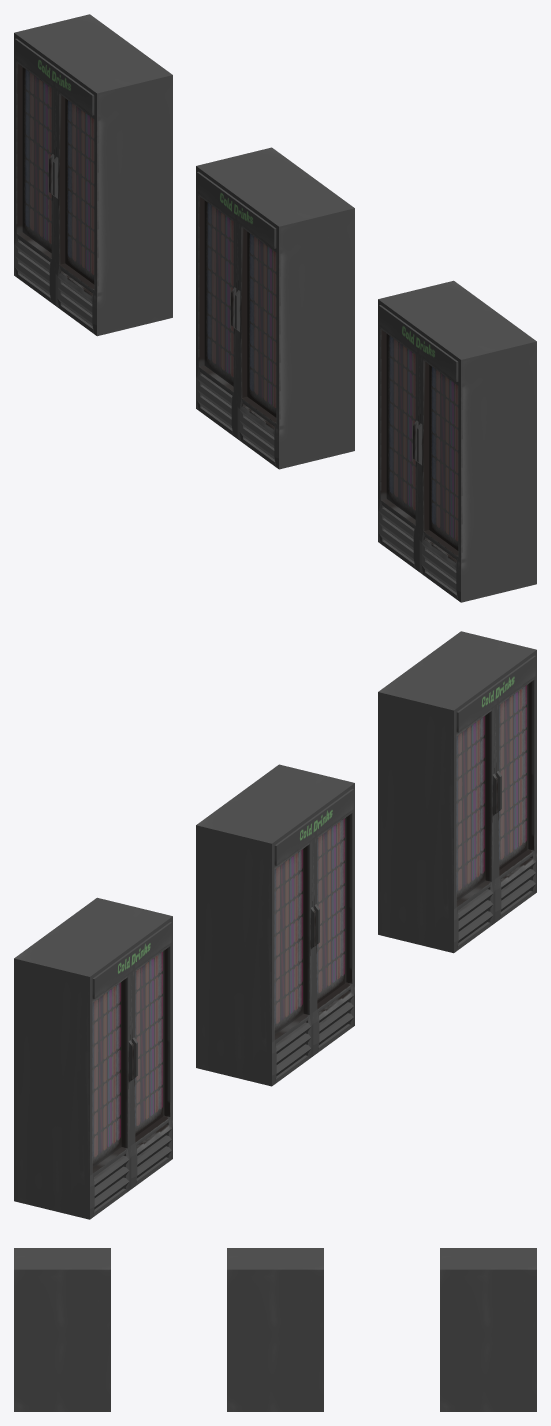
Rendered from drinkFridge_EMBED.fbx.
3 renders of one model, top to bottom at view 1: azimuth 30°, elevation 25°; view 2: azimuth 150°, elevation 25°; view 3: azimuth 270°, elevation 25°, orthographic. The views are drawn at different scales.
Parts seen in each view (by area): view 1: drinkFridge.001, drinkFridge.003, drinkFridge.002; view 2: drinkFridge.001, drinkFridge.003, drinkFridge.002; view 3: drinkFridge.001, drinkFridge.002, drinkFridge.003.
Part boxes in pixels (bbox=[...]): drinkFridge.001: bbox=[14, 14, 172, 336]; drinkFridge.003: bbox=[378, 280, 536, 602]; drinkFridge.002: bbox=[196, 147, 354, 469]; drinkFridge.001: bbox=[14, 897, 172, 1219]; drinkFridge.003: bbox=[378, 631, 536, 953]; drinkFridge.002: bbox=[196, 764, 354, 1086]; drinkFridge.001: bbox=[440, 1248, 536, 1411]; drinkFridge.002: bbox=[227, 1248, 323, 1411]; drinkFridge.003: bbox=[14, 1248, 110, 1411].
Size of the model in its own units: 278 by 809 by 2702.
1 material, 1 textured.
